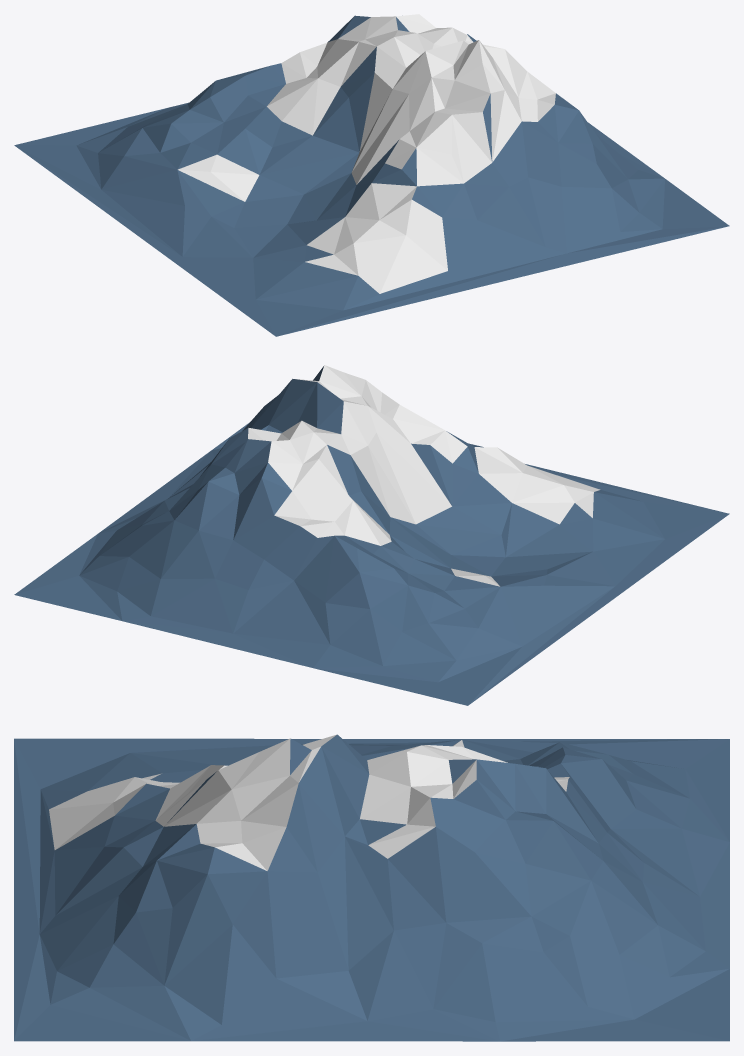
Rendered from mountain 2.fbx.
3 renders of one model, top to bottom at view 1: azimuth 30°, elevation 25°; view 2: azimuth 150°, elevation 25°; view 3: azimuth 270°, elevation 25°, orthographic. The views are drawn at different scales.
Parts seen in each view (by area): view 1: Landscape.004; view 2: Landscape.004; view 3: Landscape.004.
Part boxes in pixels (box(x1,y1,x2,y2)): Landscape.004: box(14, 14, 729, 336); Landscape.004: box(14, 365, 729, 705); Landscape.004: box(14, 734, 729, 1041).
Bounding box in the file's own units: 120 × 37.54 × 120.
